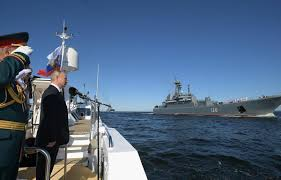tau_muctieu: (150, 81, 281, 116)
